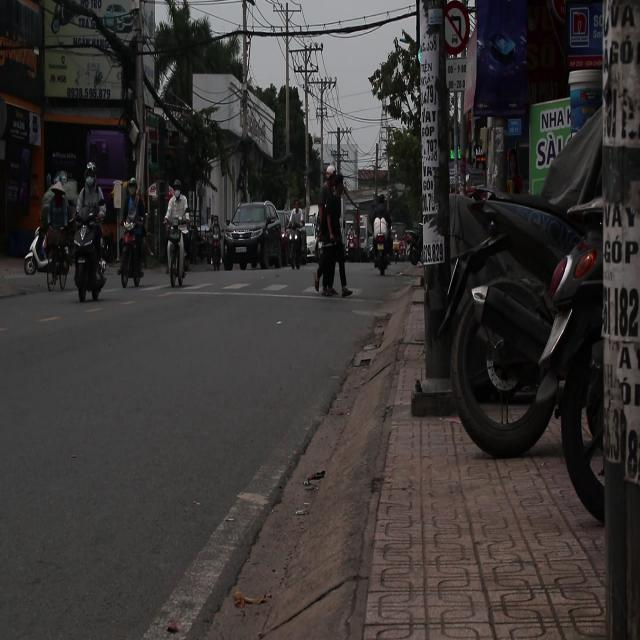car: (221, 202, 284, 270)
motorbike: (24, 212, 75, 300), (116, 210, 152, 304), (70, 224, 106, 302), (361, 209, 397, 282), (166, 216, 191, 286)
